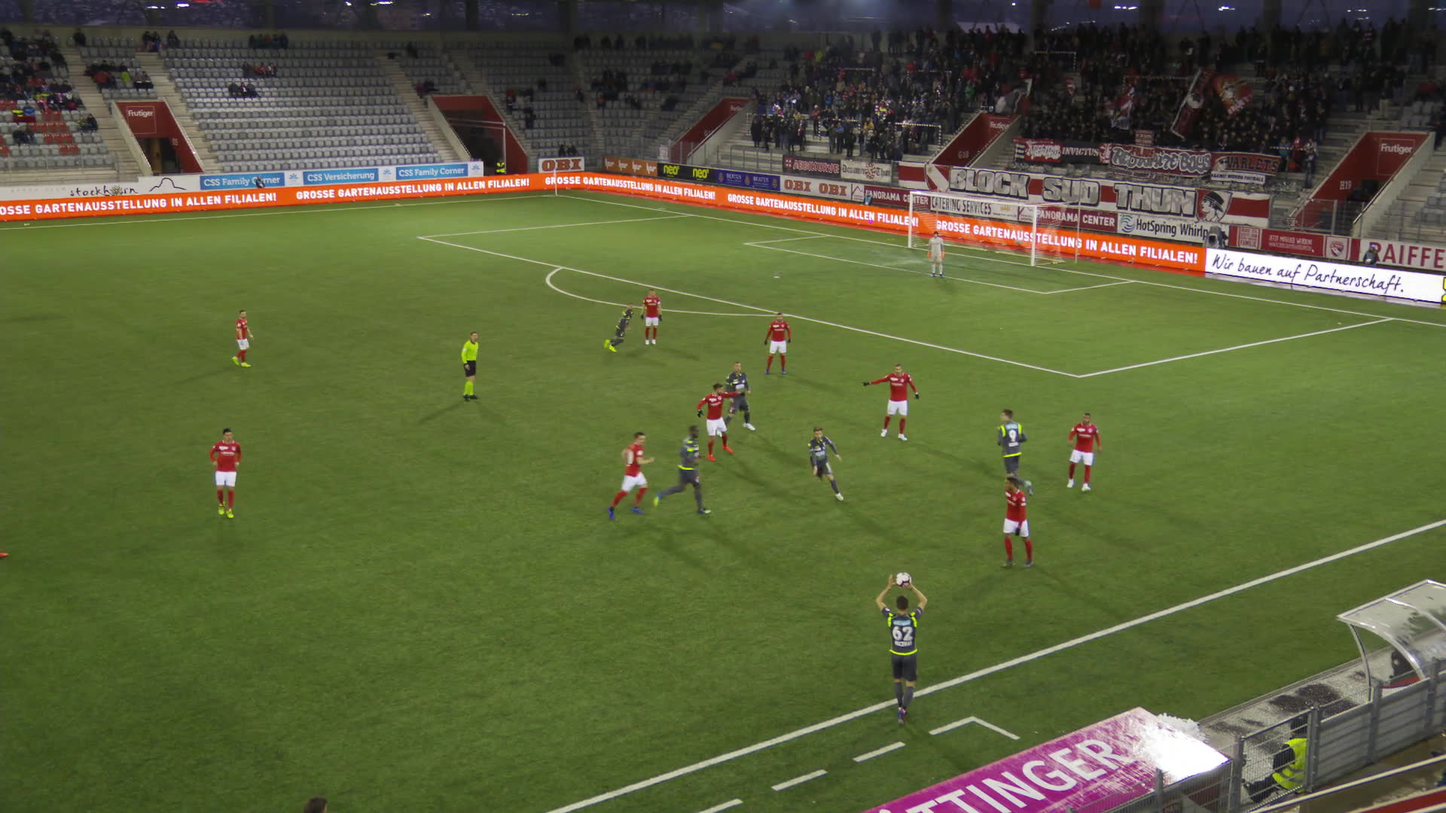ball: (894, 571, 912, 589)
player: (873, 568, 928, 729), (651, 420, 715, 516), (857, 360, 920, 443), (601, 430, 654, 522), (694, 379, 749, 462), (996, 473, 1036, 573), (993, 406, 1036, 498), (1062, 410, 1103, 498), (208, 426, 244, 519), (804, 424, 845, 501), (718, 359, 756, 434), (760, 310, 794, 378), (600, 301, 636, 352), (230, 308, 256, 367), (639, 287, 662, 345), (926, 230, 947, 279)
referee: (460, 330, 482, 401)
